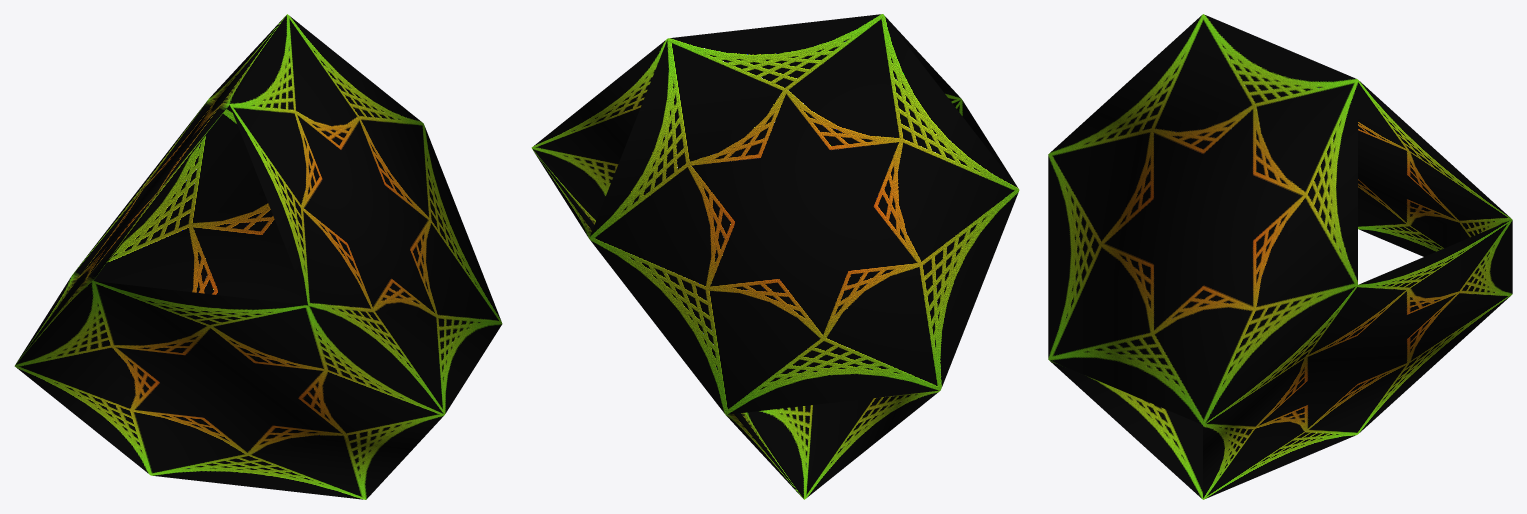
Rendered from TruncatedTetrahedron45.gltf.
The picture shows the model from 3 angles, left to right: view 1: azimuth 30°, elevation 25°; view 2: azimuth 150°, elevation 25°; view 3: azimuth 270°, elevation 25°; orthographic projection.
Parts seen in each view (by area): view 1: 0TruncatedTetrahedron; view 2: 0TruncatedTetrahedron; view 3: 0TruncatedTetrahedron.
Boxes of the visible parts, left/top/right/bottom form: 0TruncatedTetrahedron: left=14, top=14, right=502, bottom=499; 0TruncatedTetrahedron: left=531, top=14, right=1019, bottom=499; 0TruncatedTetrahedron: left=1048, top=14, right=1512, bottom=499.
Bounding box in the file's own units: 2.12 × 2.12 × 2.12.
Materials: 1 (1 with a texture image).
